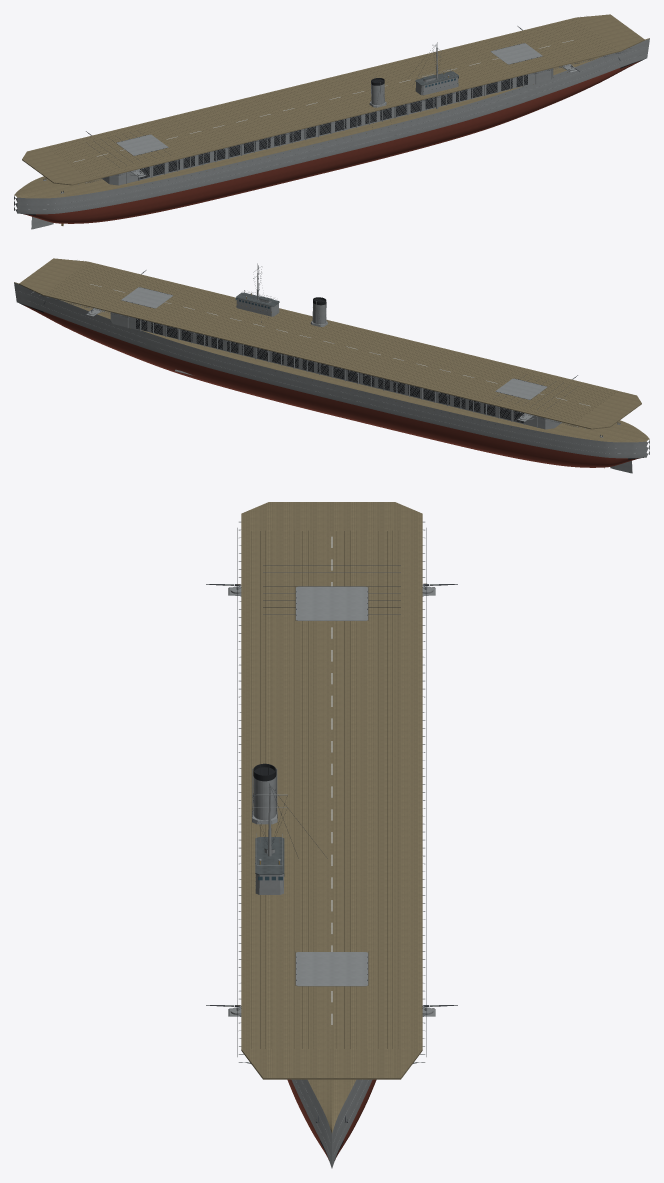
The model's file is fallback-cv.glb.
3 views of the same model, one above another, from view 1: azimuth 30°, elevation 25°; view 2: azimuth 150°, elevation 25°; view 3: azimuth 270°, elevation 25° (orthographic). The views are drawn at different scales.
Visible parts, largest first — view 1: Original CV custom-design concept; view 2: Original CV custom-design concept; view 3: Original CV custom-design concept.
Boxes of the visible parts, x1,y1,x2,y2 form: Original CV custom-design concept: [14, 14, 649, 229]; Original CV custom-design concept: [14, 258, 649, 473]; Original CV custom-design concept: [206, 502, 457, 1168].
Size of the model in its own units: 218 by 34.65 by 37.48.
Materials: 9 (8 with a texture image).
